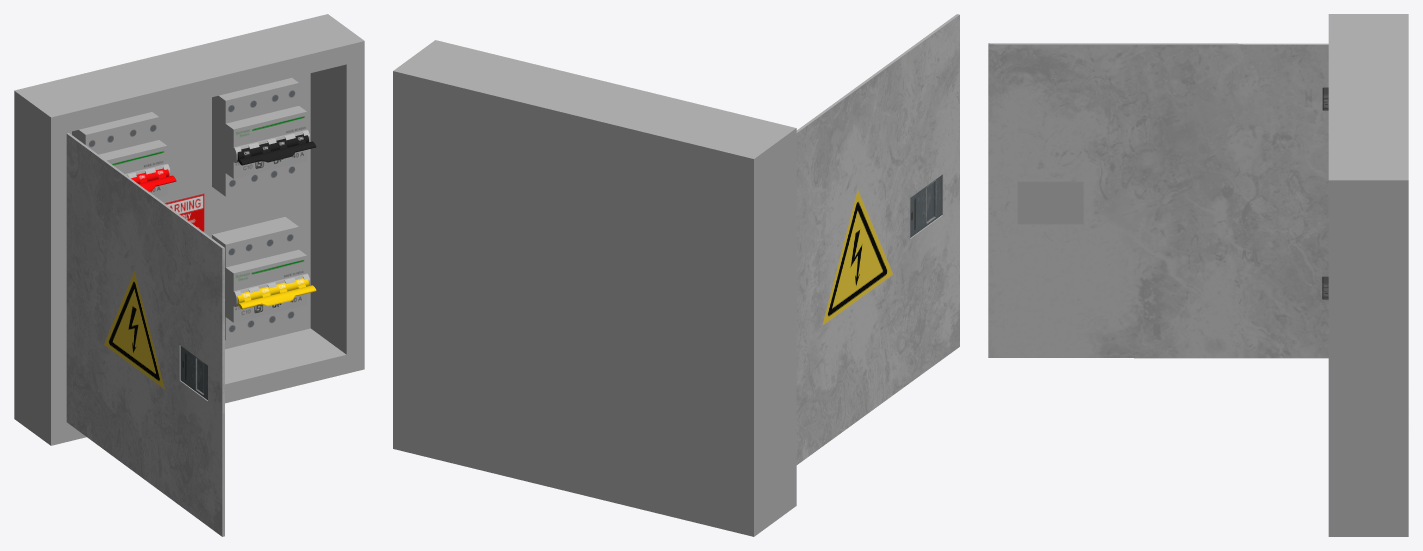
The model's file is electric_distribution_box.glb.
3 views of the same model, side by side, from view 1: azimuth 30°, elevation 25°; view 2: azimuth 150°, elevation 25°; view 3: azimuth 270°, elevation 25° (orthographic). The views are drawn at different scales.
Visible parts, largest first — view 1: Cube, Cube.003, Cube.005, Cube.002, Cube.004, Cylinder.001, Cylinder.003, Cylinder.002; view 2: Cube, Cube.003; view 3: Cube.003, Cube.
Part boxes in pixels (x1=…): Cube: x1=14, y1=14, x2=364, y2=445; Cube.003: x1=66, y1=133, x2=224, y2=536; Cube.005: x1=212, y1=78, x2=309, y2=196; Cube.002: x1=212, y1=217, x2=309, y2=340; Cube.004: x1=72, y1=112, x2=170, y2=198; Cylinder.001: x1=237, y1=278, x2=316, y2=309; Cylinder.003: x1=237, y1=134, x2=316, y2=165; Cylinder.002: x1=131, y1=168, x2=176, y2=191; Cube: x1=393, y1=40, x2=796, y2=536; Cube.003: x1=796, y1=14, x2=959, y2=464; Cube.003: x1=988, y1=43, x2=1328, y2=358; Cube: x1=1328, y1=14, x2=1408, y2=536.
Size of the model in its own units: 1.69 by 1.69 by 1.81.
Materials: 2 (2 with a texture image).
